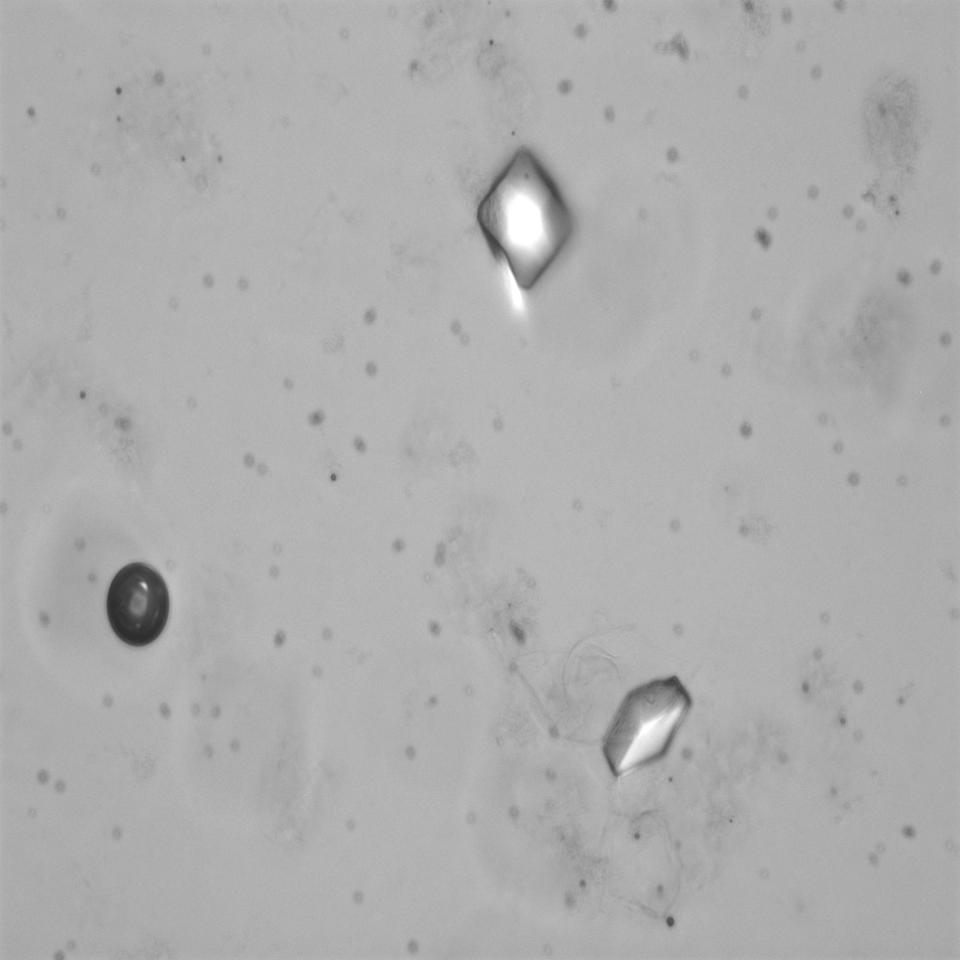crystal: (470, 140, 586, 312), (583, 671, 702, 785), (101, 564, 180, 648)
